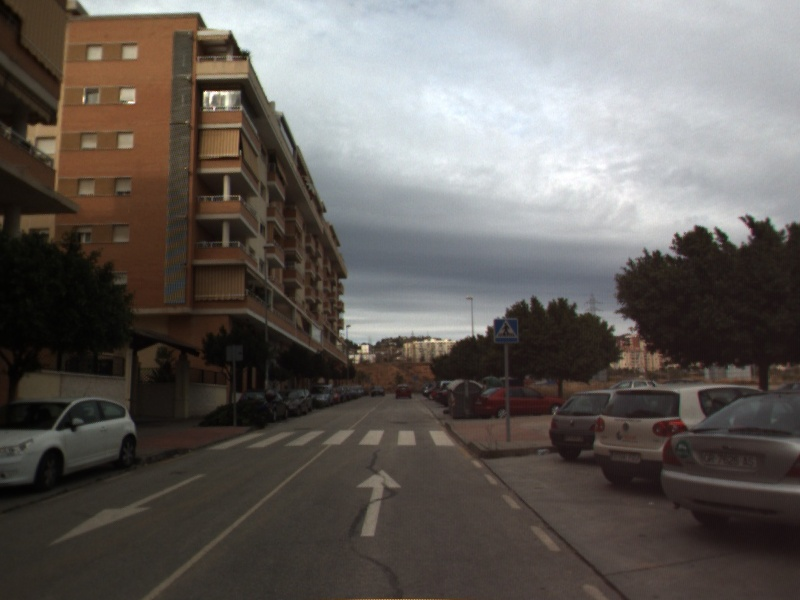STRAIGHT: (354, 467, 404, 539)
